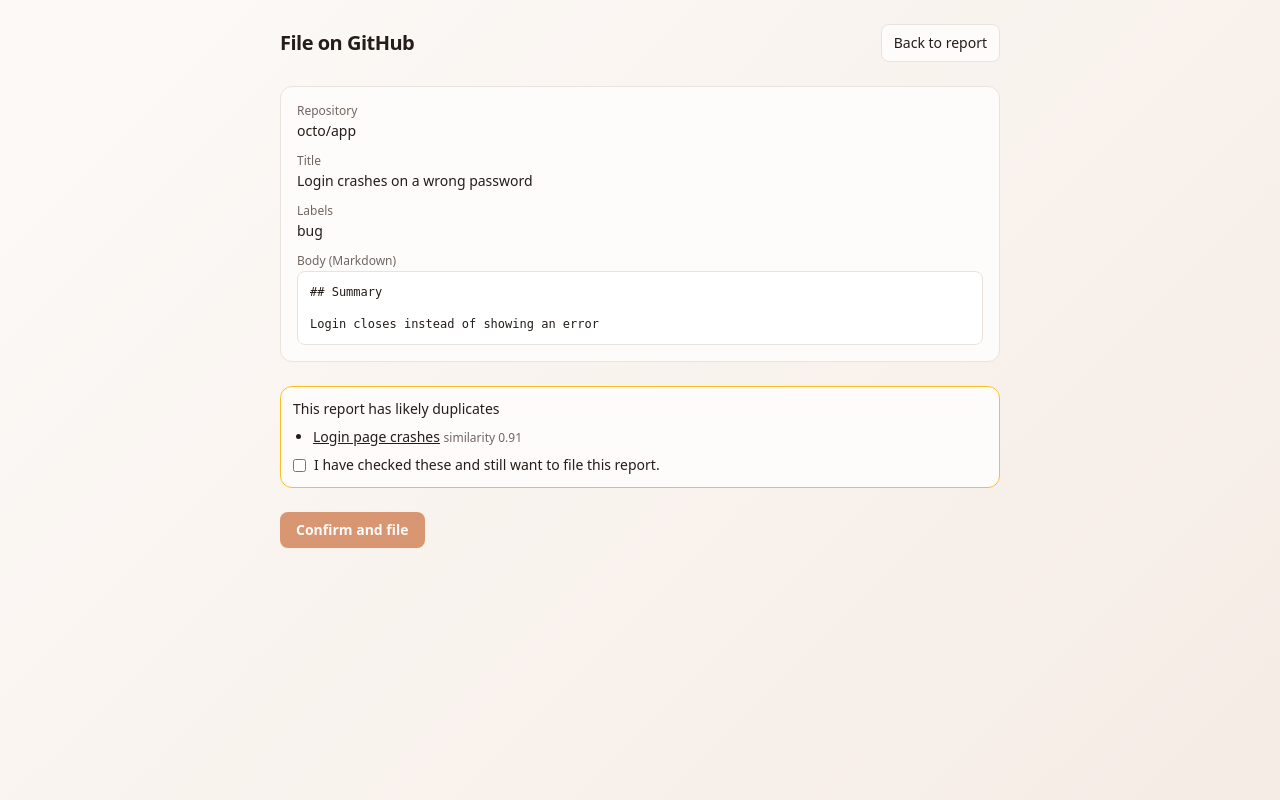
Test: GitHubIssue › needs a Likely duplicate acknowledged before Confirm
Expected: the button "Confirm and file" is disabled, [280,512,425,548]
Click the checkbox labelled "I have checked these and still want to file this report." at [300, 466], box [293,459,306,472]
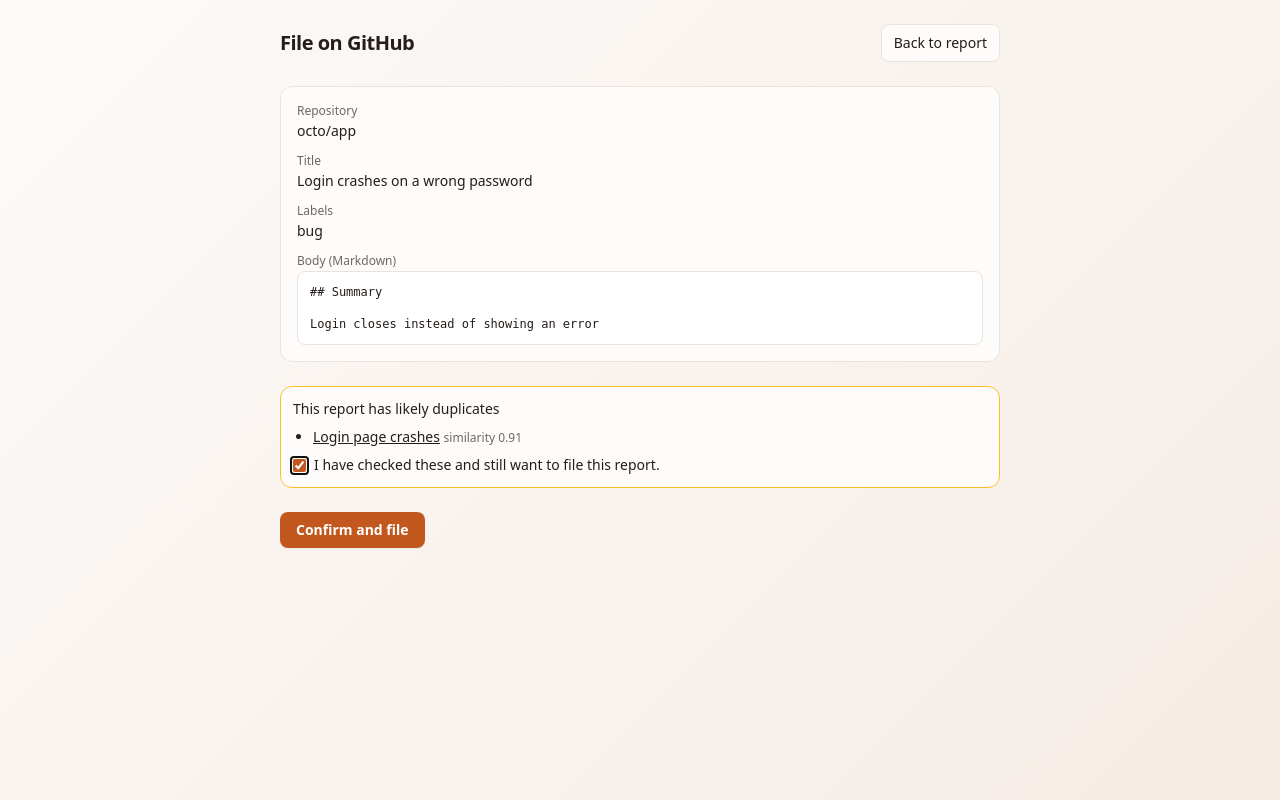
Now the button "Confirm and file" is enabled
Click the button "Confirm and file" at [352, 530], box [280,512,425,548]
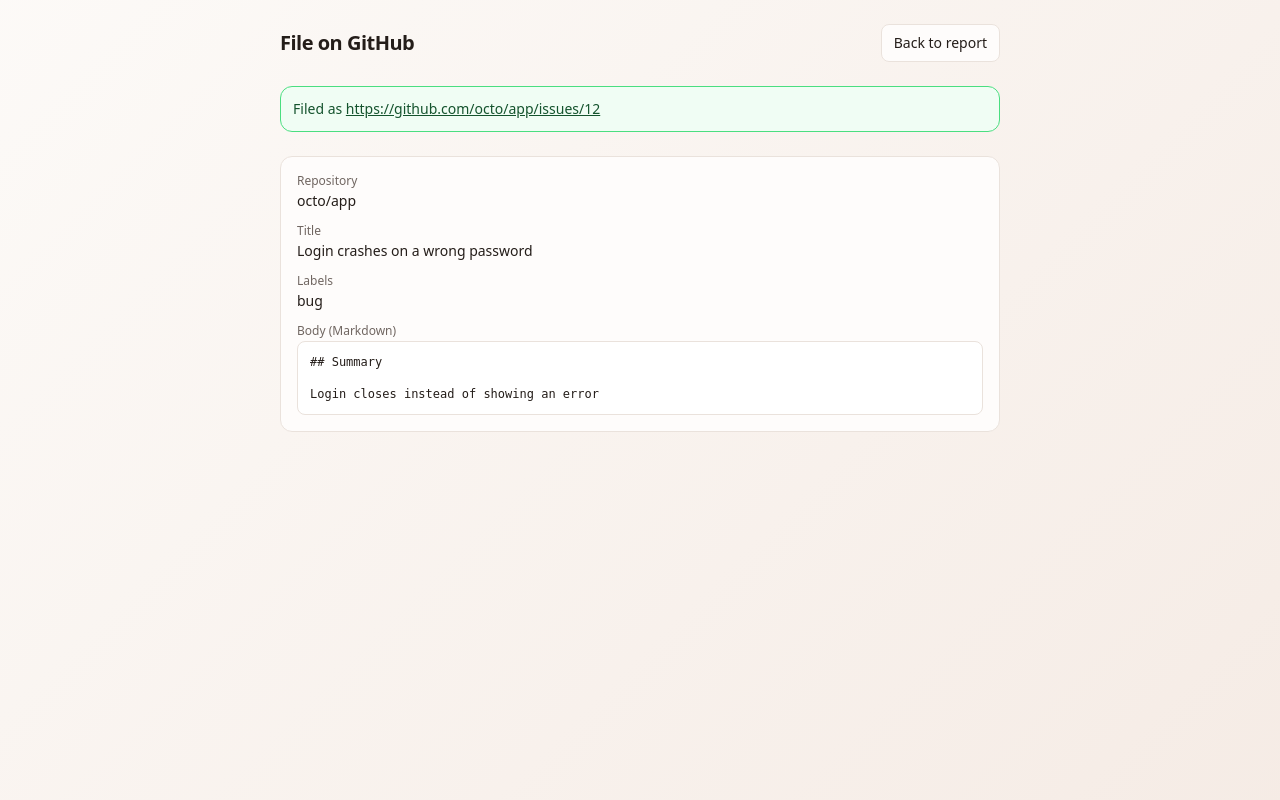
Now the link "https://github.com/octo/app/issues/12" is shown, box [346,99,600,118]
